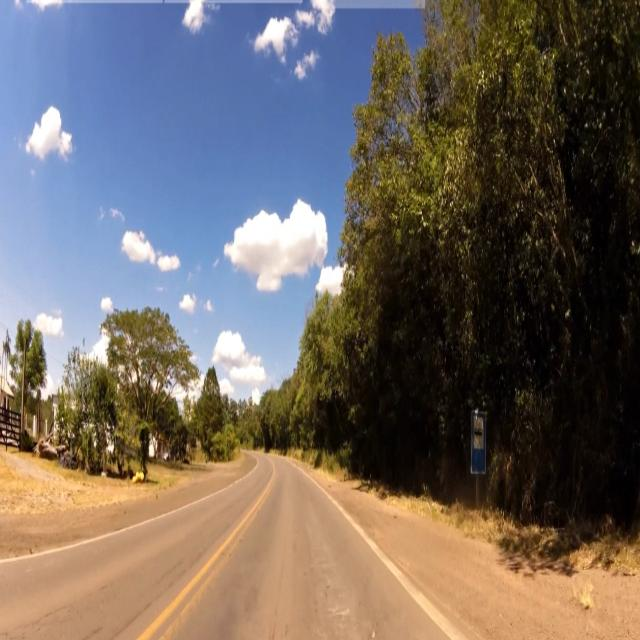S-14: (470, 415, 487, 476)
